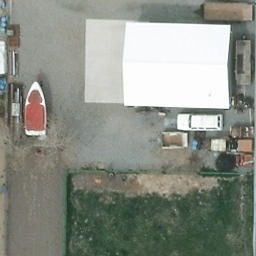boat: (22, 82, 49, 137)
car: (177, 114, 224, 132)
